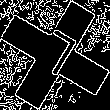L_SW: (28, 25, 82, 85)
